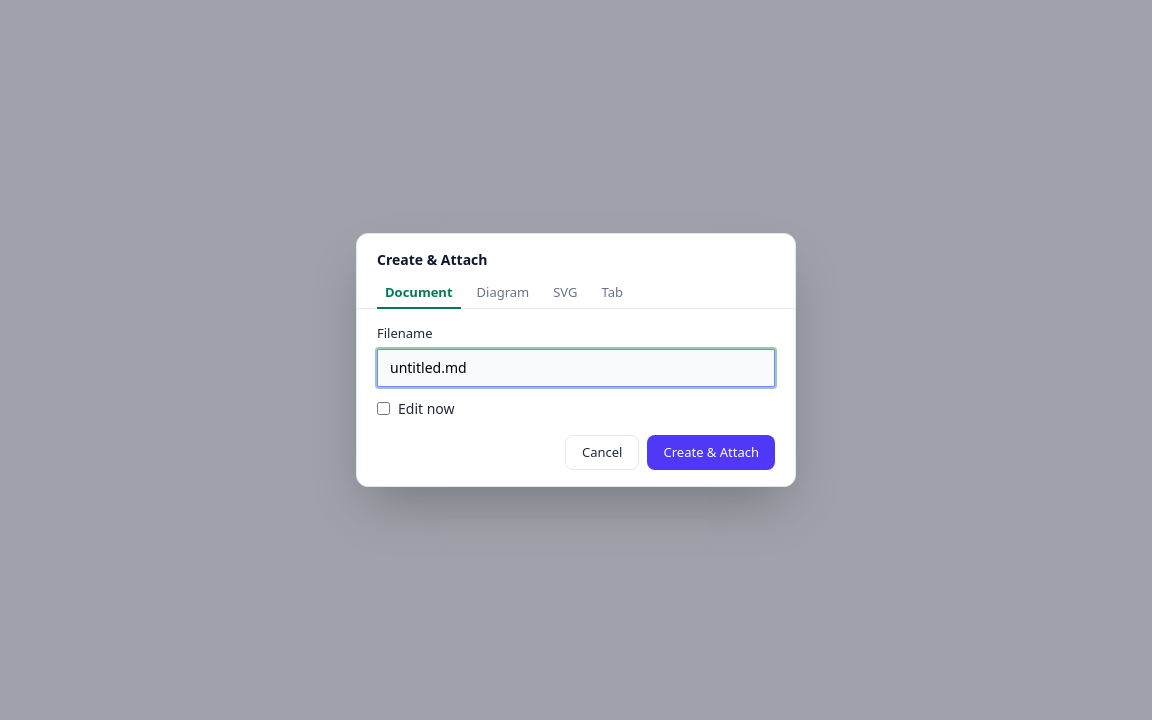
Test case: CreateAttachEntityModal › disables confirm when SVG tab is active (deferred persistence)
The width and height of the screenshot is (1152, 720).
Click the tab with test id "create-attach-type-svg".
click(565, 294)  # box [545,278,586,309]
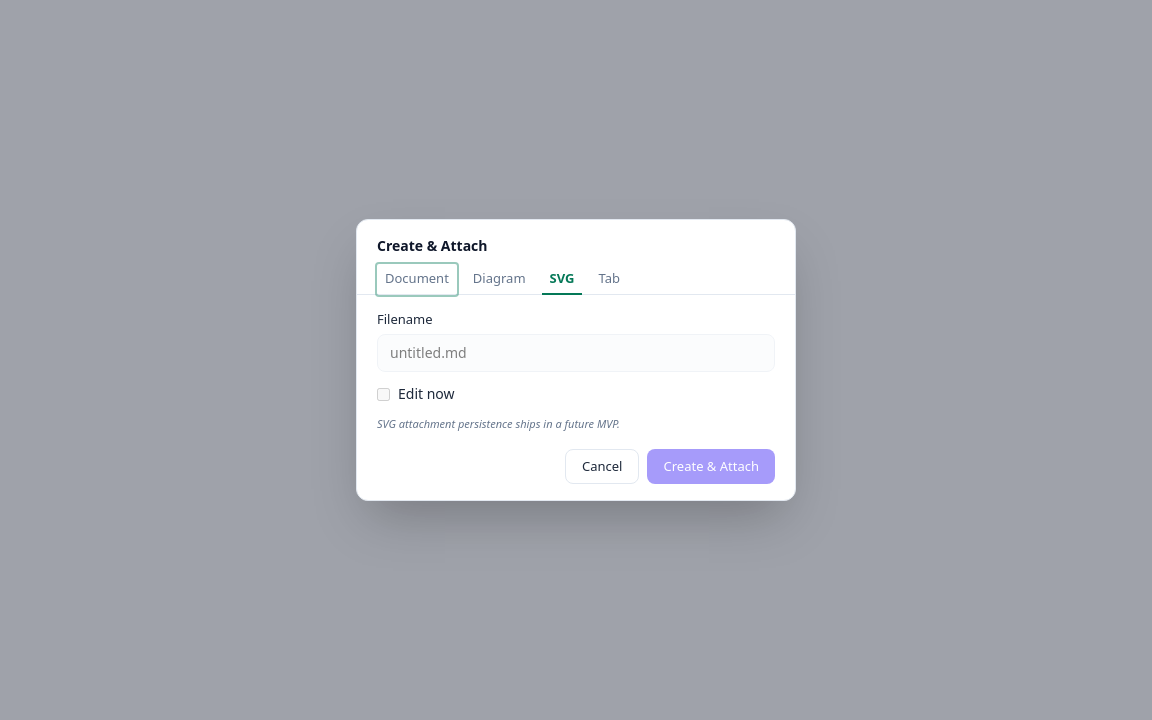
Expected: the button with test id "create-attach-confirm" is disabled, [648,449,775,484]
Expected: the text "SVG attachment persistence ships in a future MVP." is shown, [377,416,620,431]
